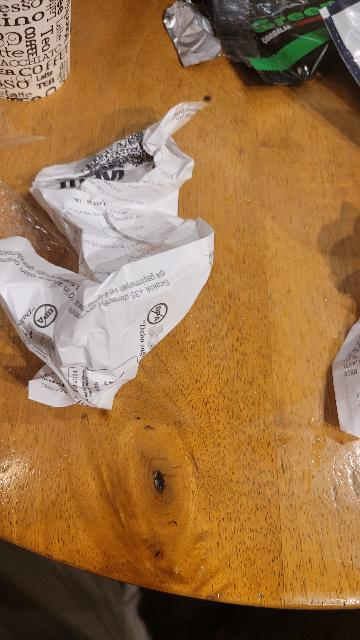Kagit: (0, 90, 221, 428), (0, 0, 91, 106), (158, 2, 226, 79)
Plastik: (199, 1, 360, 106)
